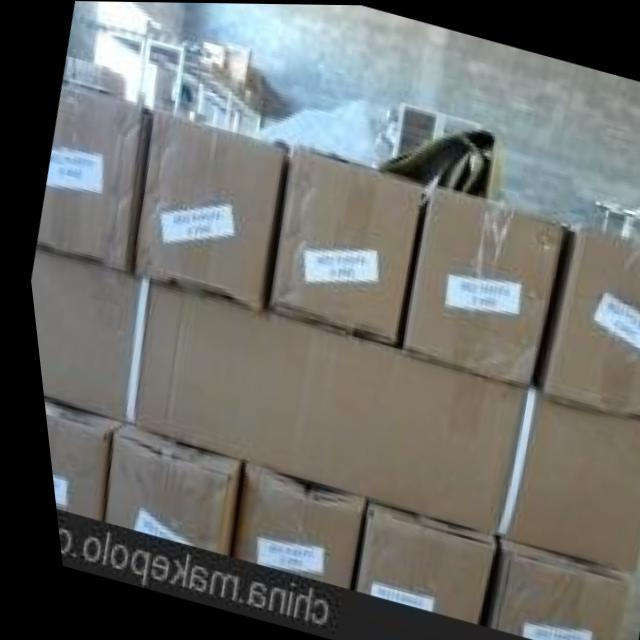box: (25, 253, 640, 569), (261, 143, 422, 348), (125, 107, 284, 314), (387, 187, 557, 378), (528, 218, 640, 421), (31, 85, 149, 271), (339, 491, 484, 623), (215, 457, 354, 587), (91, 422, 230, 550), (466, 530, 617, 640), (35, 396, 117, 519), (387, 101, 473, 154), (63, 56, 122, 96), (139, 96, 203, 123), (222, 41, 251, 88), (139, 58, 171, 99), (239, 67, 264, 113), (200, 41, 224, 74)
